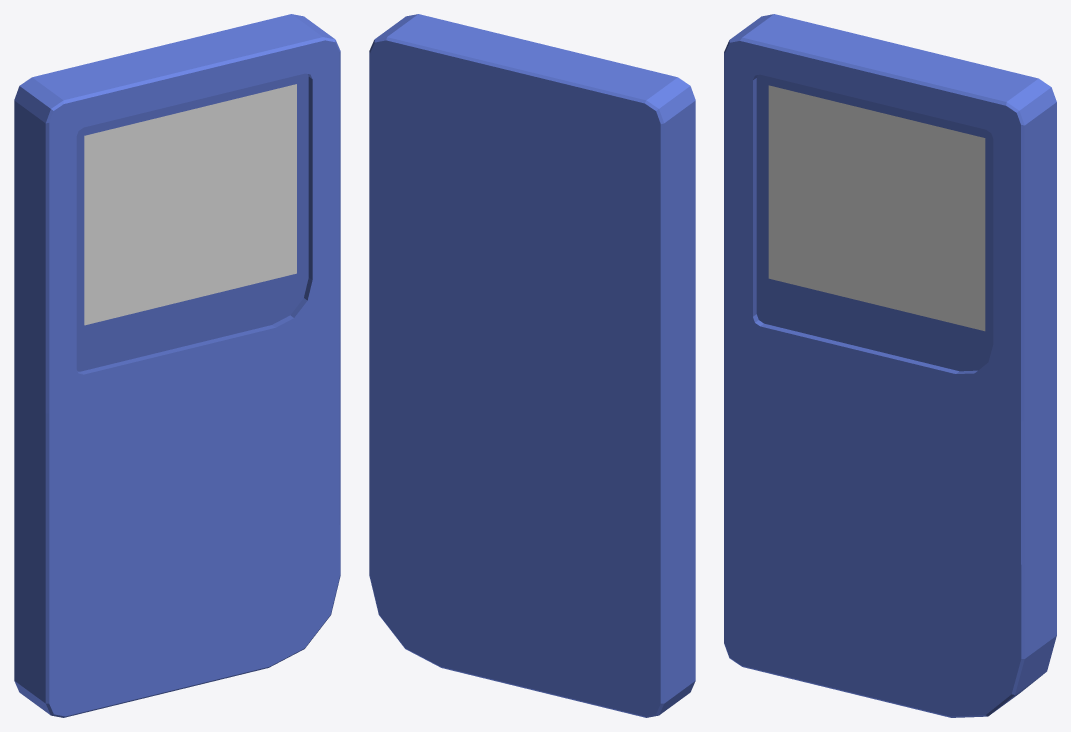
Rendered from GameBoyHacker.fbx.
3 renders of one model, left to right at view 1: azimuth 30°, elevation 25°; view 2: azimuth 150°, elevation 25°; view 3: azimuth 330°, elevation 25°, orthographic.
Visible parts, largest first — view 1: Device, Screen; view 2: Device; view 3: Device, Screen.
Boxes of the visible parts, box(x1,y1,x2,y2) form: Device: box(14, 14, 340, 717); Screen: box(84, 84, 296, 325); Device: box(369, 14, 695, 717); Device: box(724, 14, 1056, 717); Screen: box(768, 85, 985, 331).
Size of the model in its own units: 20 by 40 by 4.
